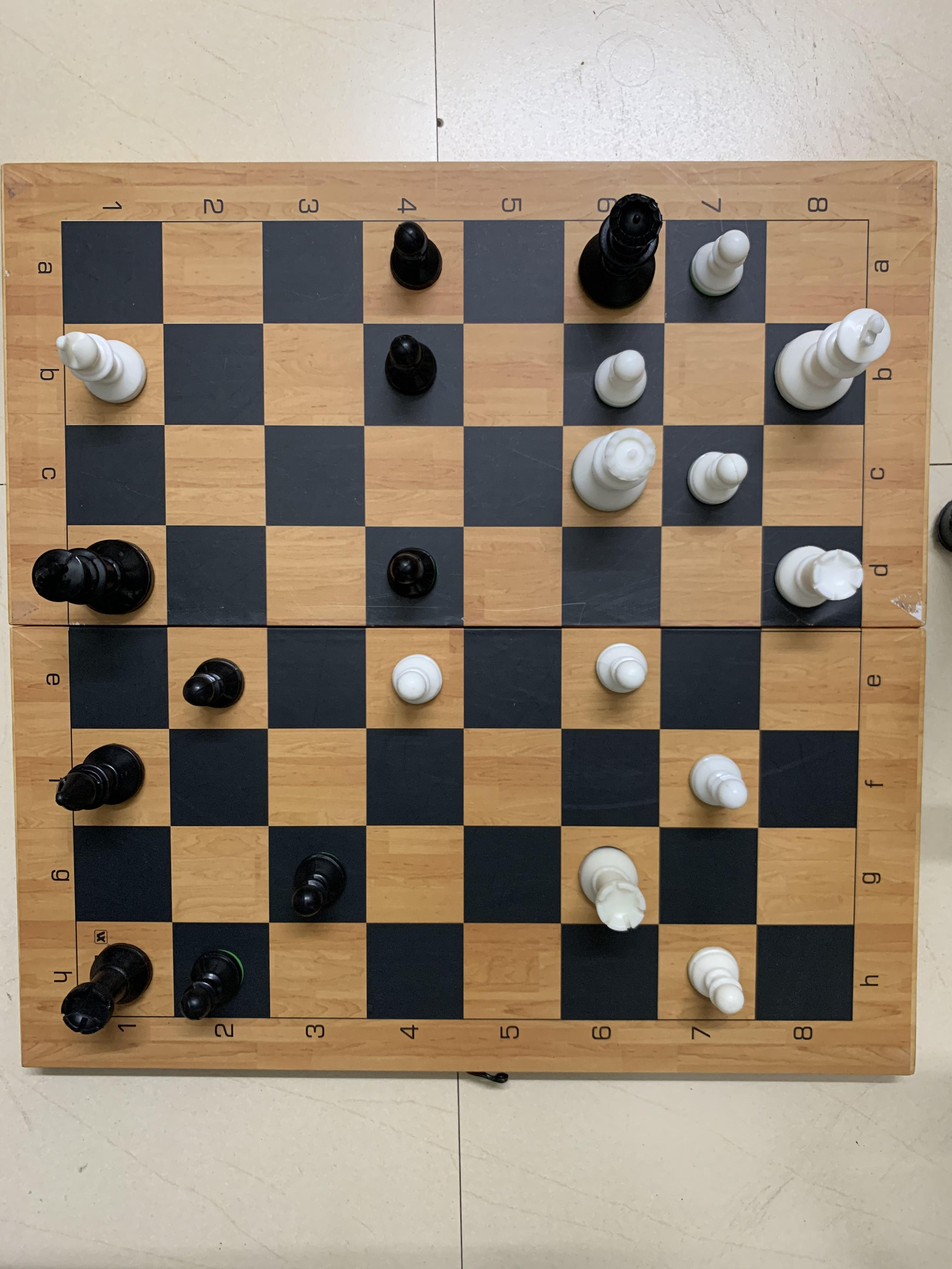black_bishop: (52, 738, 154, 825)
black_king: (20, 524, 167, 633)
black_pawn: (168, 938, 266, 1028), (274, 833, 363, 925), (176, 644, 265, 730), (371, 216, 454, 308), (371, 531, 455, 618), (373, 331, 456, 411)
black_queen: (568, 191, 674, 309)
black_rook: (47, 940, 158, 1045)
white_bishop: (46, 326, 162, 421)
white_king: (768, 298, 897, 415)
white_pawn: (669, 430, 762, 526), (570, 627, 660, 722), (371, 631, 460, 716), (672, 224, 764, 305), (671, 933, 759, 1016), (671, 738, 754, 824)
white_queen: (570, 424, 662, 522)
white_rook: (568, 833, 662, 939), (767, 532, 868, 618)
